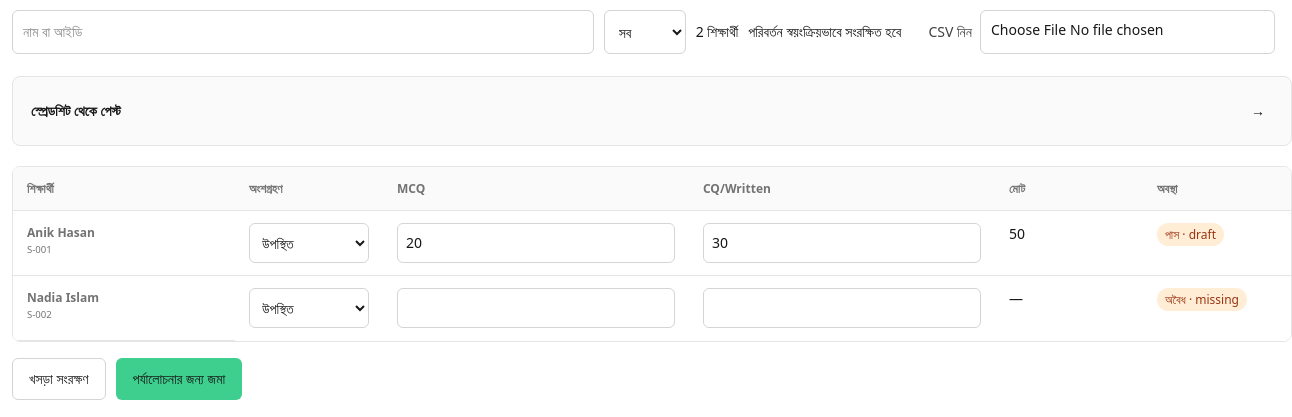
Test: MarksWorkspace › confirms before clearing existing marks for an absent student
Select "অনুপস্থিত" in the dropdown named "Anik Hasan participation" at point(309, 243), box [249,223,369,263]
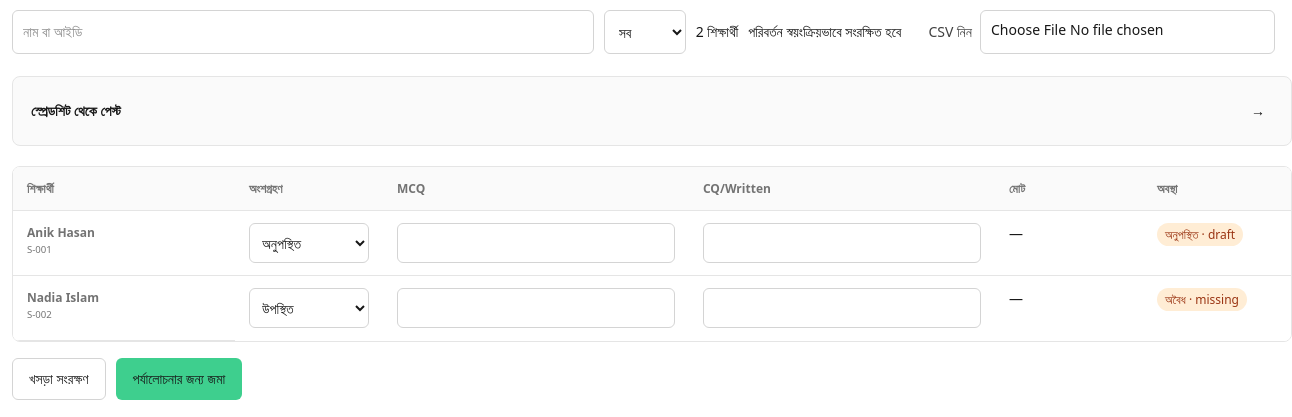
Result: the field named "Anik Hasan MCQ / 40" is disabled at [397,223,675,263]
